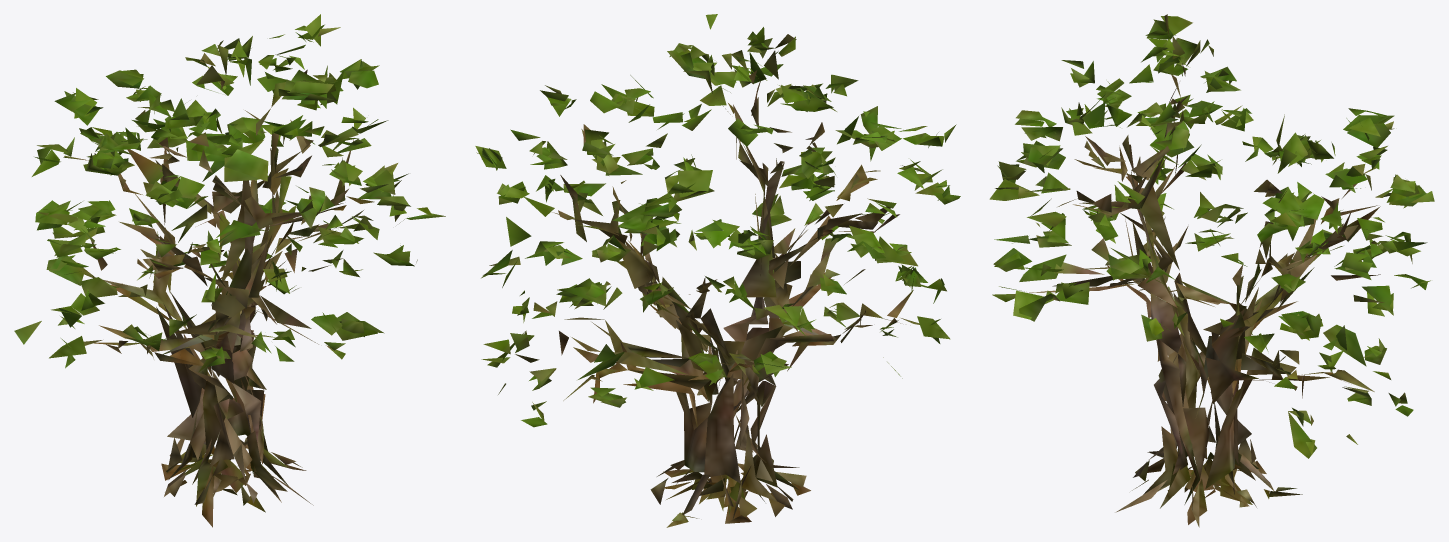
The model's file is arvore_larga_lod2.glb.
3 renders of one model, left to right at view 1: azimuth 30°, elevation 25°; view 2: azimuth 150°, elevation 25°; view 3: azimuth 270°, elevation 25°, orthographic.
Visible parts, largest first — view 1: arvore_larga; view 2: arvore_larga; view 3: arvore_larga.
Part boxes in pixels (x1,y1,x2,y2): arvore_larga: [14, 14, 445, 527]; arvore_larga: [475, 14, 960, 527]; arvore_larga: [989, 14, 1434, 527].
Bounding box in the file's own units: 8.16 × 8.98 × 7.81.
Materials: 1 (1 with a texture image).
